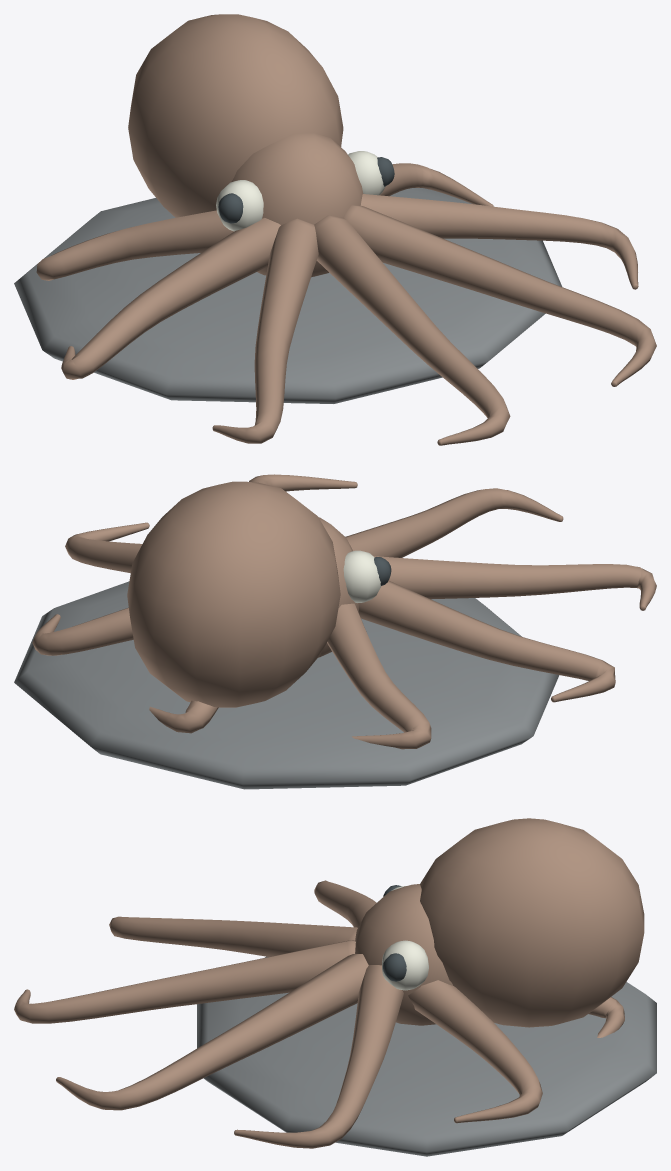
Rendered from octopus_rock.glb.
The picture shows the model from 3 angles, top to bottom: view 1: azimuth 30°, elevation 25°; view 2: azimuth 150°, elevation 25°; view 3: azimuth 270°, elevation 25°; orthographic projection. The views are drawn at different scales.
Visible parts, largest first — view 1: octopus-on-rock; view 2: octopus-on-rock; view 3: octopus-on-rock.
Boxes of the visible parts, bbox=[...] form: octopus-on-rock: bbox=[14, 14, 656, 445]; octopus-on-rock: bbox=[14, 474, 656, 789]; octopus-on-rock: bbox=[14, 818, 656, 1156].
Size of the model in its own units: 1.04 by 0.4644 by 1.1.
